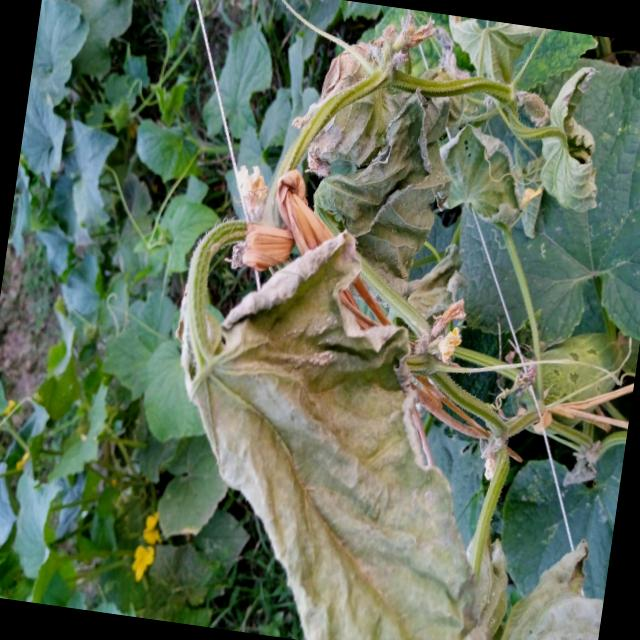cucumber_bacterial: (156, 221, 504, 640), (322, 46, 620, 254), (494, 528, 612, 640)
